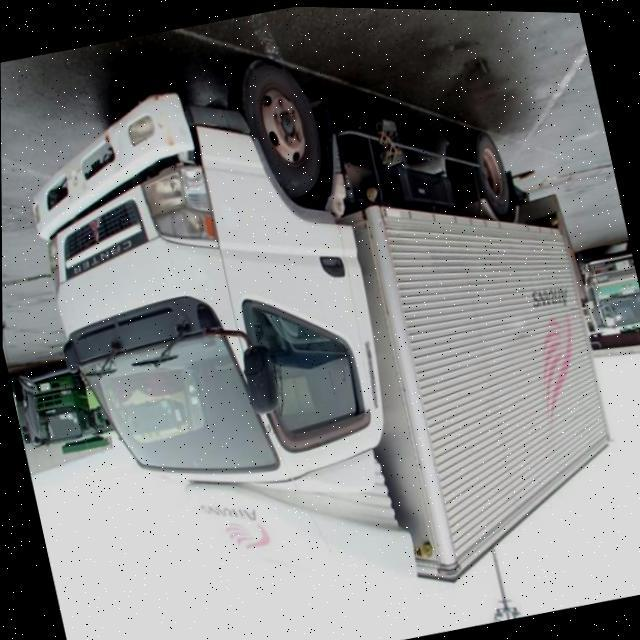truck: (9, 0, 633, 640)
